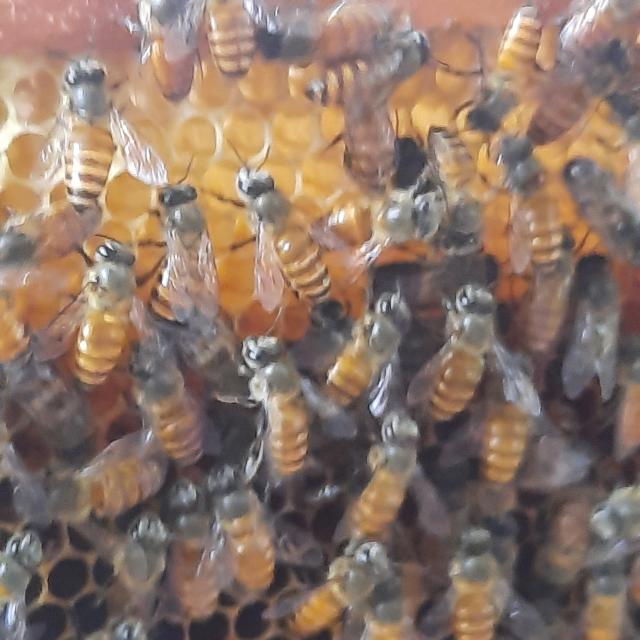honeybee: (234, 150, 338, 302), (10, 433, 168, 526), (233, 326, 315, 482), (277, 544, 403, 637), (126, 340, 209, 475), (336, 419, 422, 543), (55, 54, 121, 213), (420, 275, 490, 420), (494, 126, 566, 266), (304, 28, 450, 97), (331, 290, 405, 421), (154, 485, 225, 613), (212, 470, 282, 594), (154, 184, 213, 330), (527, 50, 614, 148), (416, 123, 479, 254), (480, 348, 538, 489), (261, 5, 400, 62), (578, 509, 638, 640), (76, 238, 127, 391), (337, 88, 408, 196), (569, 154, 640, 261), (572, 250, 624, 394), (112, 515, 175, 627), (469, 0, 522, 132), (448, 519, 504, 640), (134, 0, 204, 96), (0, 522, 52, 639), (549, 0, 640, 59), (520, 253, 572, 350), (207, 0, 255, 81), (497, 166, 499, 174)
